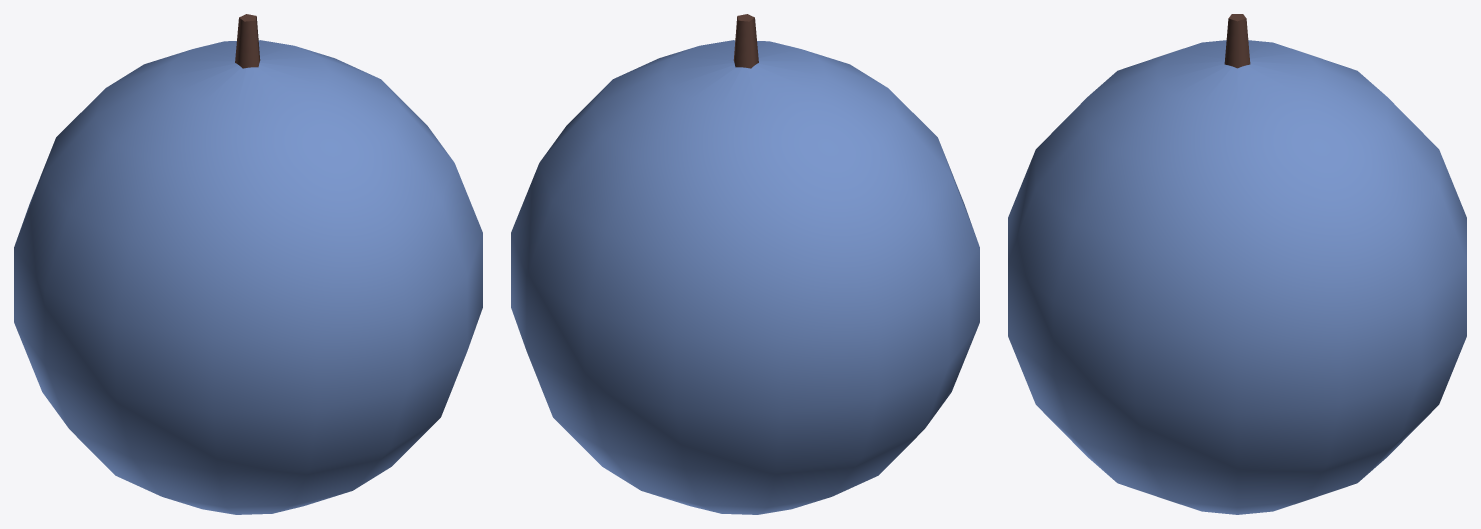
File: fruit-blueberry-chilled.gltf
3 views of the same model, side by side, from view 1: azimuth 30°, elevation 25°; view 2: azimuth 150°, elevation 25°; view 3: azimuth 270°, elevation 25° (orthographic).
Size of the model in its own units: 0.2364 by 0.264 by 0.2304.
